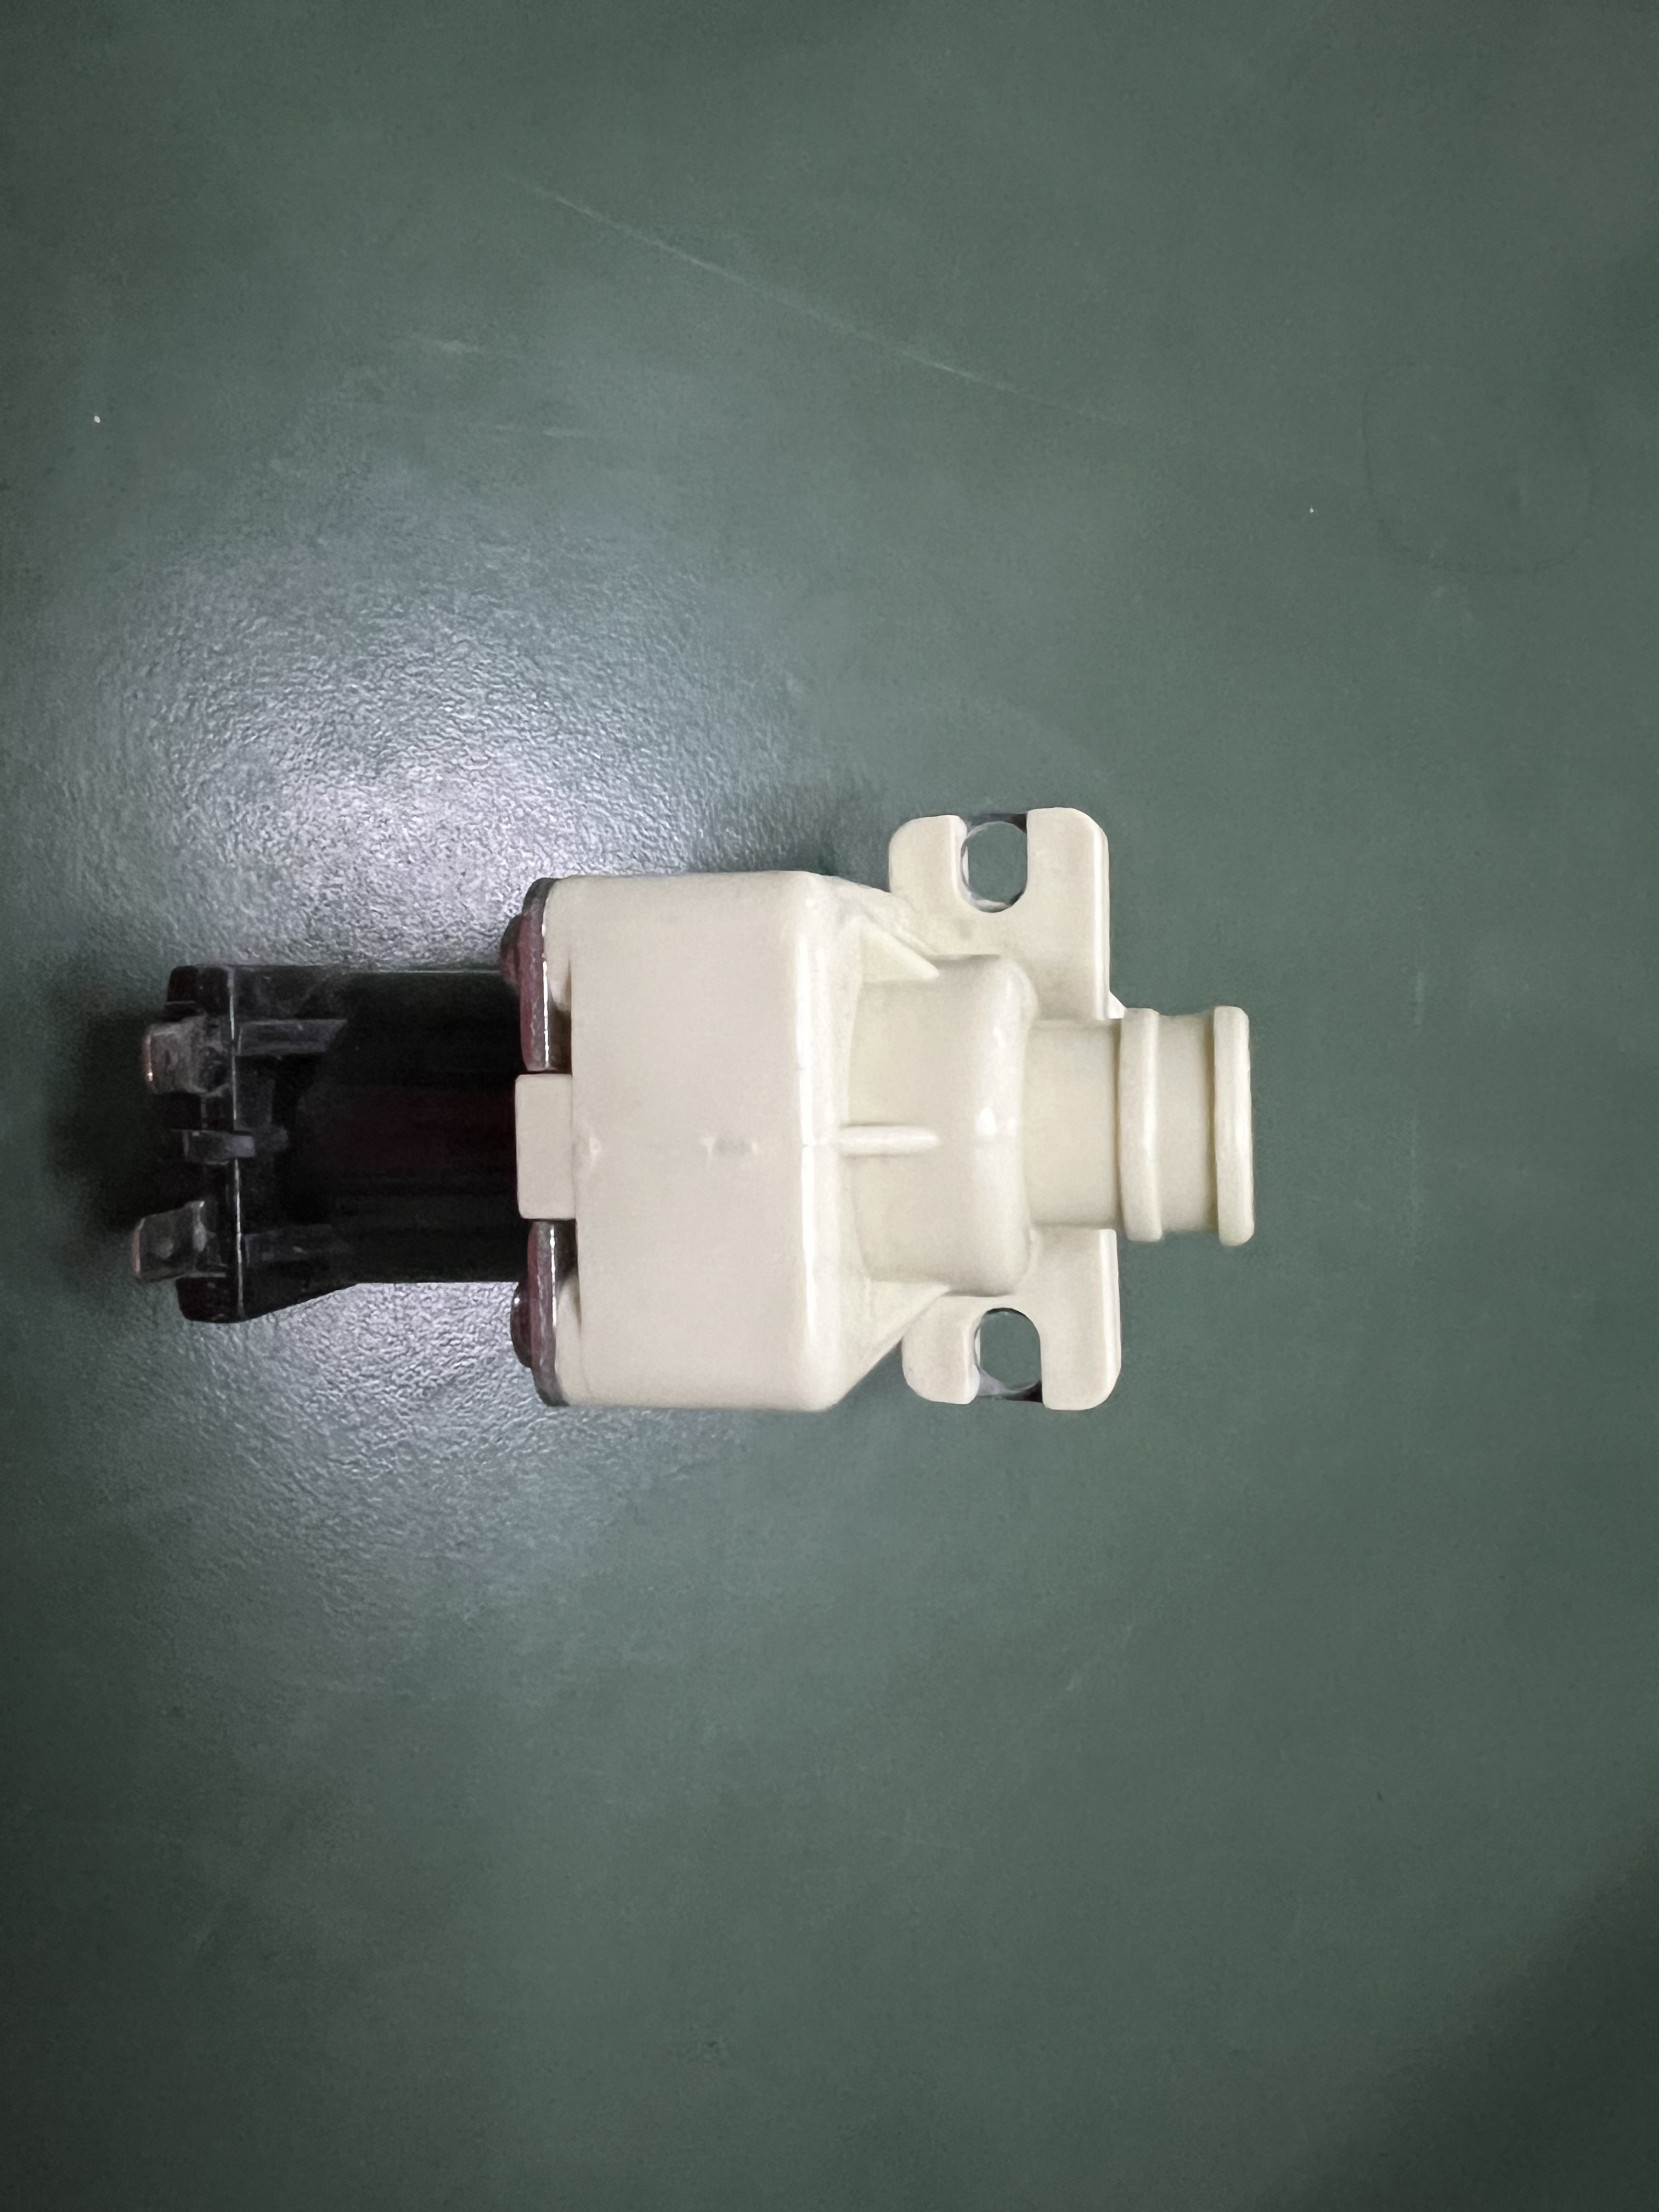godrej_inlet_valves: (129, 780, 1288, 1446)
